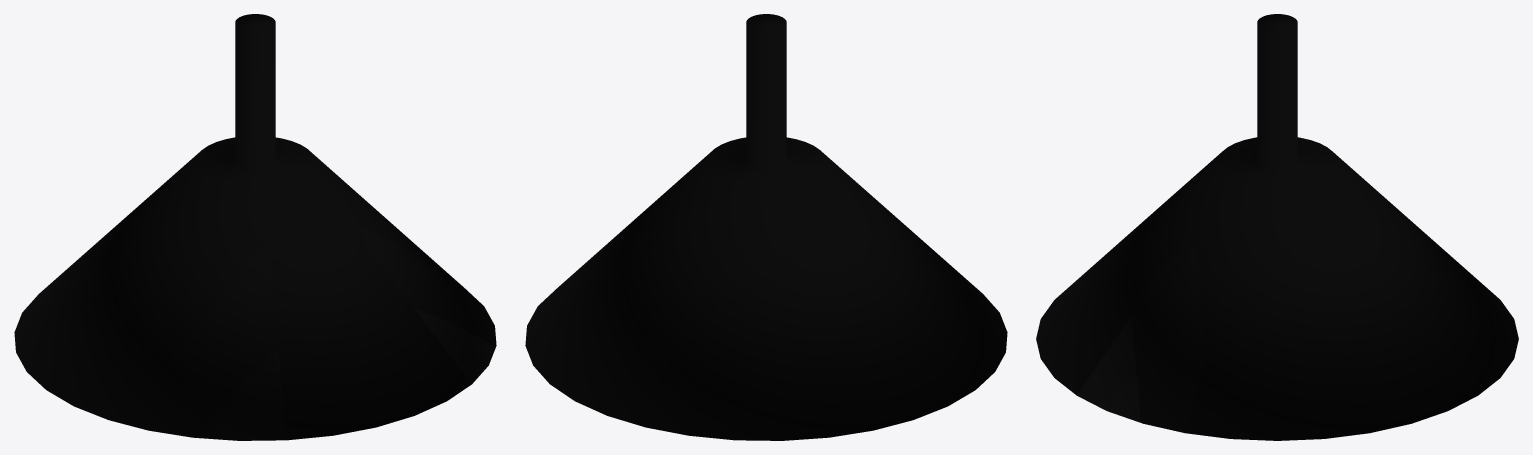
The model's file is Ceiling Lamp.fbx.
3 views of the same model, side by side, from view 1: azimuth 30°, elevation 25°; view 2: azimuth 150°, elevation 25°; view 3: azimuth 270°, elevation 25° (orthographic).
Parts seen in each view (by area): view 1: Cylinder; view 2: Cylinder; view 3: Cylinder.
Boxes of the visible parts, x1,y1,x2,y2 form: Cylinder: (14,14,496,440); Cylinder: (525,14,1007,440); Cylinder: (1036,14,1518,440).
Size of the model in its own units: 244 by 176 by 244.
